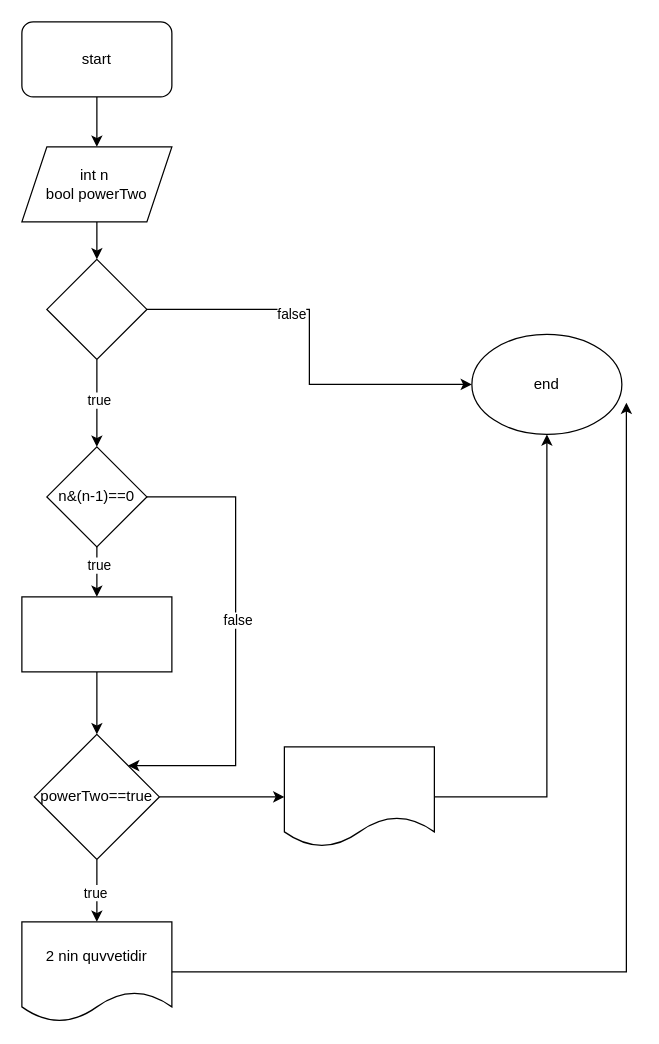
The diagram is 659 pixels wide and 1044 high, and some of its shapes have lost their labels. The box of each missing label's shape, as (x1, y1, x2, y2) in pixels:
2 niin quvveti deyil: (283, 746, 434, 847)
n>0: (46, 258, 147, 359)
powerTwo=true: (21, 596, 172, 672)
